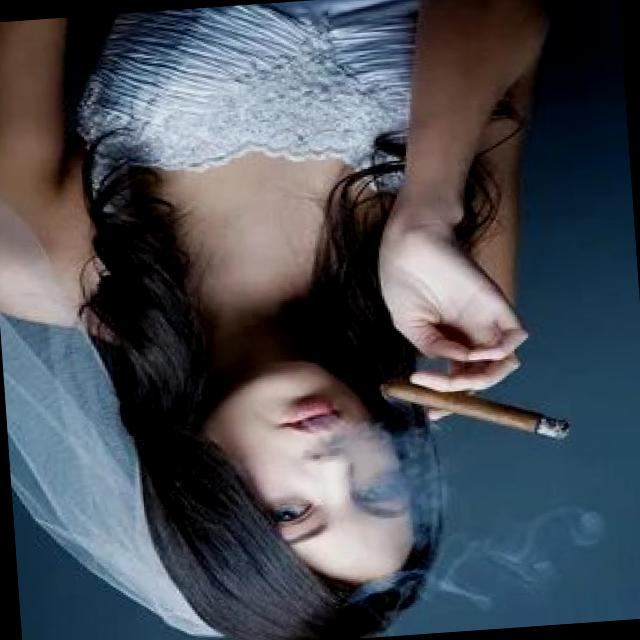smoke: (377, 363, 574, 456)
